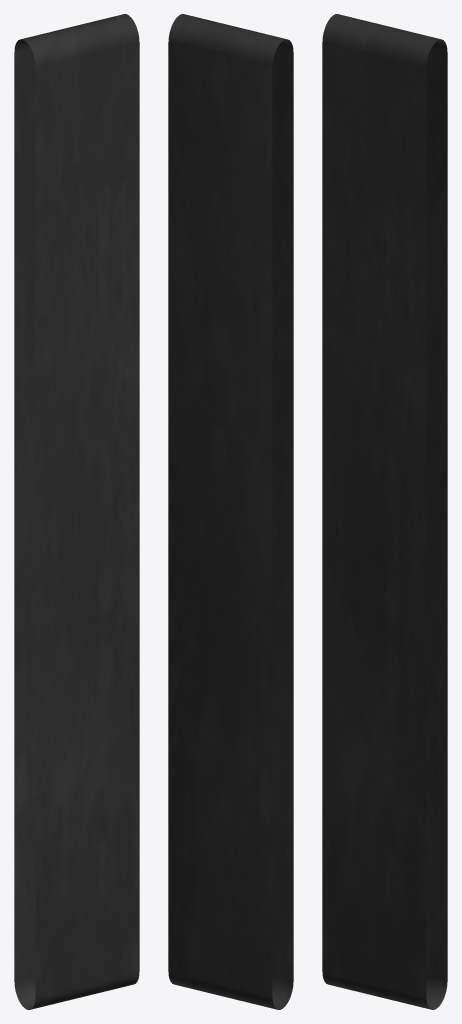
File: conveyor1.dae
3 renders of one model, left to right at view 1: azimuth 30°, elevation 25°; view 2: azimuth 150°, elevation 25°; view 3: azimuth 330°, elevation 25°, orthographic.
Visible parts, largest first — view 1: Conveyor01Belt_Belt_0.004; view 2: Conveyor01Belt_Belt_0.004; view 3: Conveyor01Belt_Belt_0.004.
Part boxes in pixels (left/top/right/bottom): Conveyor01Belt_Belt_0.004: left=14, top=14, right=139, bottom=1009; Conveyor01Belt_Belt_0.004: left=168, top=14, right=293, bottom=1009; Conveyor01Belt_Belt_0.004: left=322, top=14, right=447, bottom=1009.
Size of the model in its own units: 0.4 by 0.14 by 3.56.
